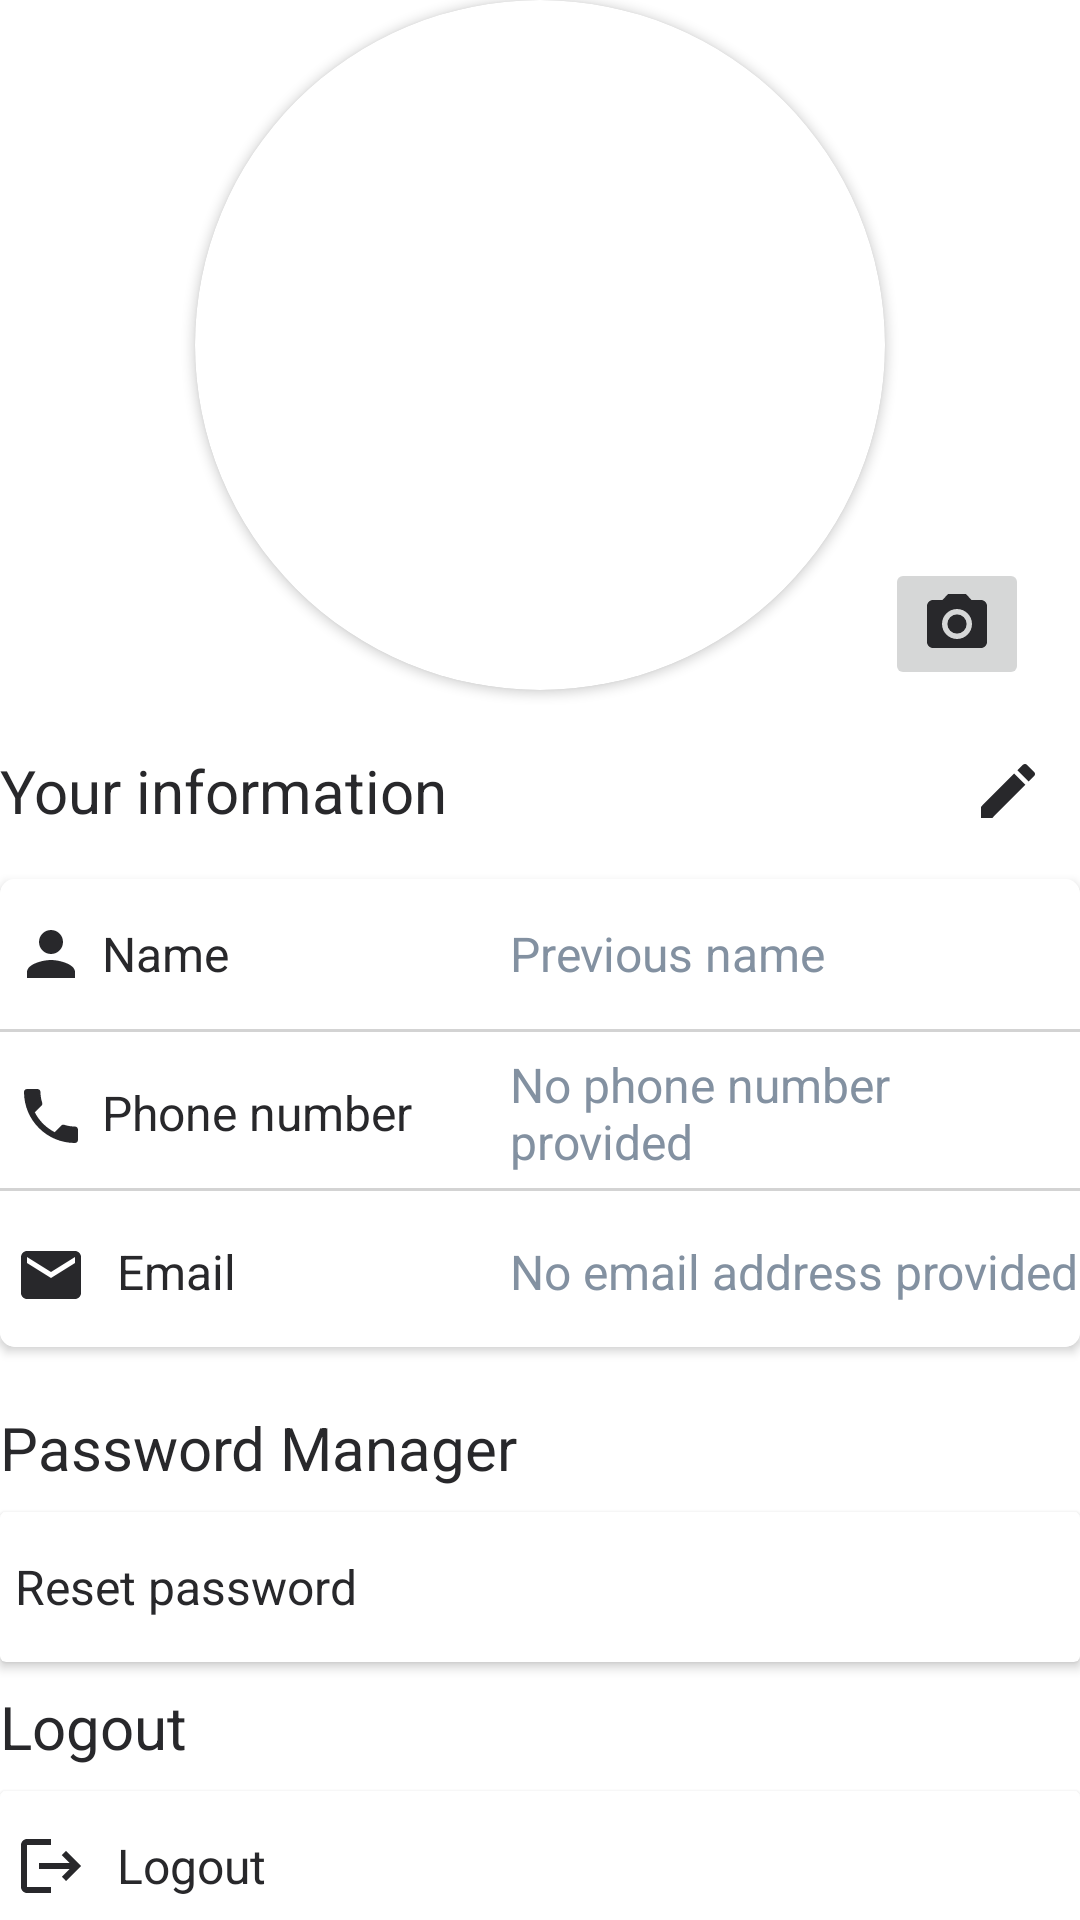

Where to tap for icons on this 1080 × 1920 app screen, as point (x, y):
edit: point (1008, 791)
photo camera: point (957, 624)
